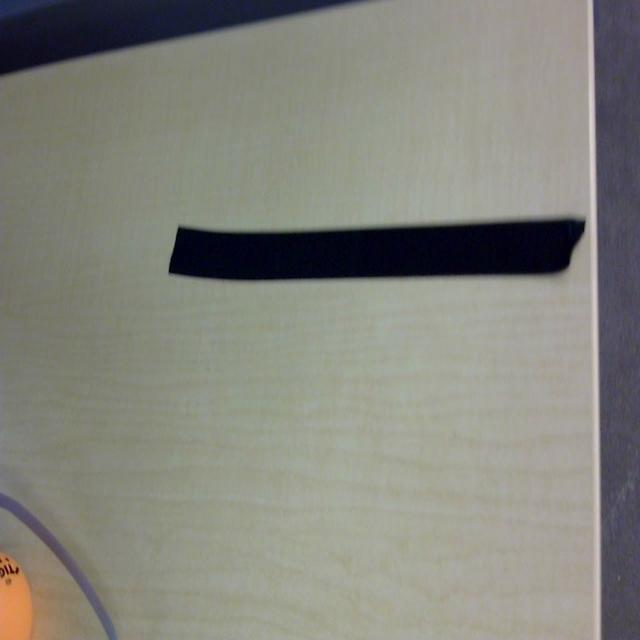tape: (168, 218, 585, 278)
